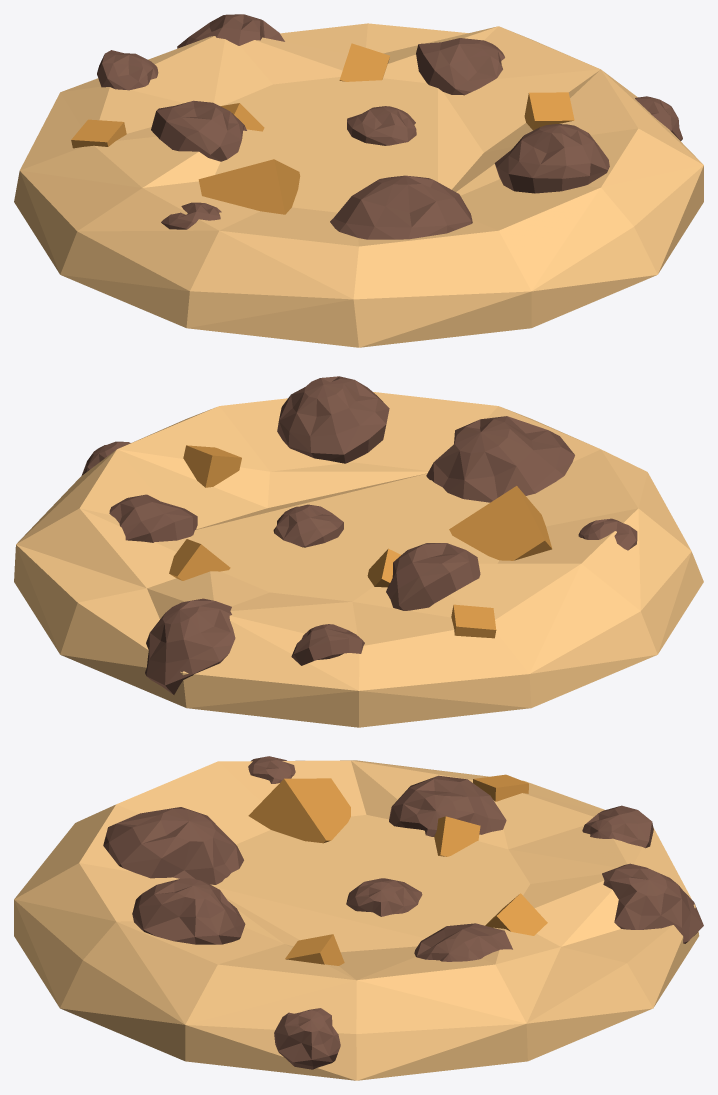
Rendered from galleta-chocolate.glb.
3 views of the same model, one above another, from view 1: azimuth 30°, elevation 25°; view 2: azimuth 150°, elevation 25°; view 3: azimuth 270°, elevation 25° (orthographic).
Parts seen in each view (by area): view 1: Node; view 2: Node; view 3: Node.
Boxes of the visible parts, x1,y1,x2,y2 form: Node: [14, 14, 703, 347]; Node: [14, 376, 703, 727]; Node: [14, 756, 703, 1080].
Bounding box in the file's own units: 0.17 × 0.0295 × 0.1712.
